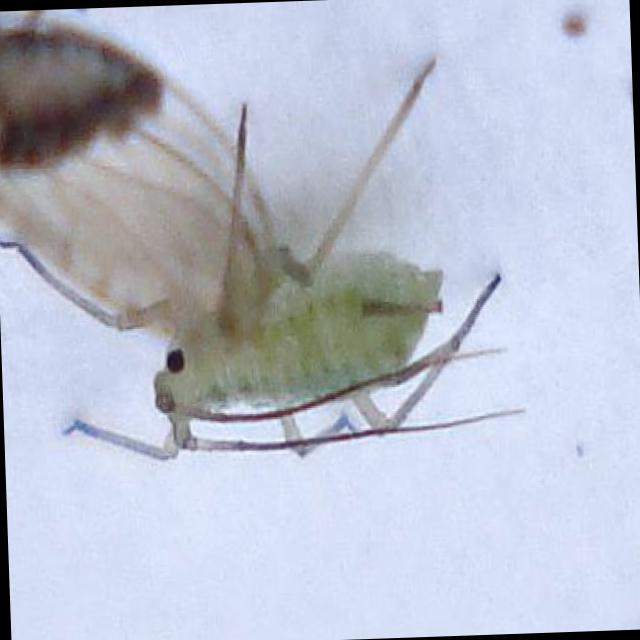Aphids: (16, 104, 532, 486)
